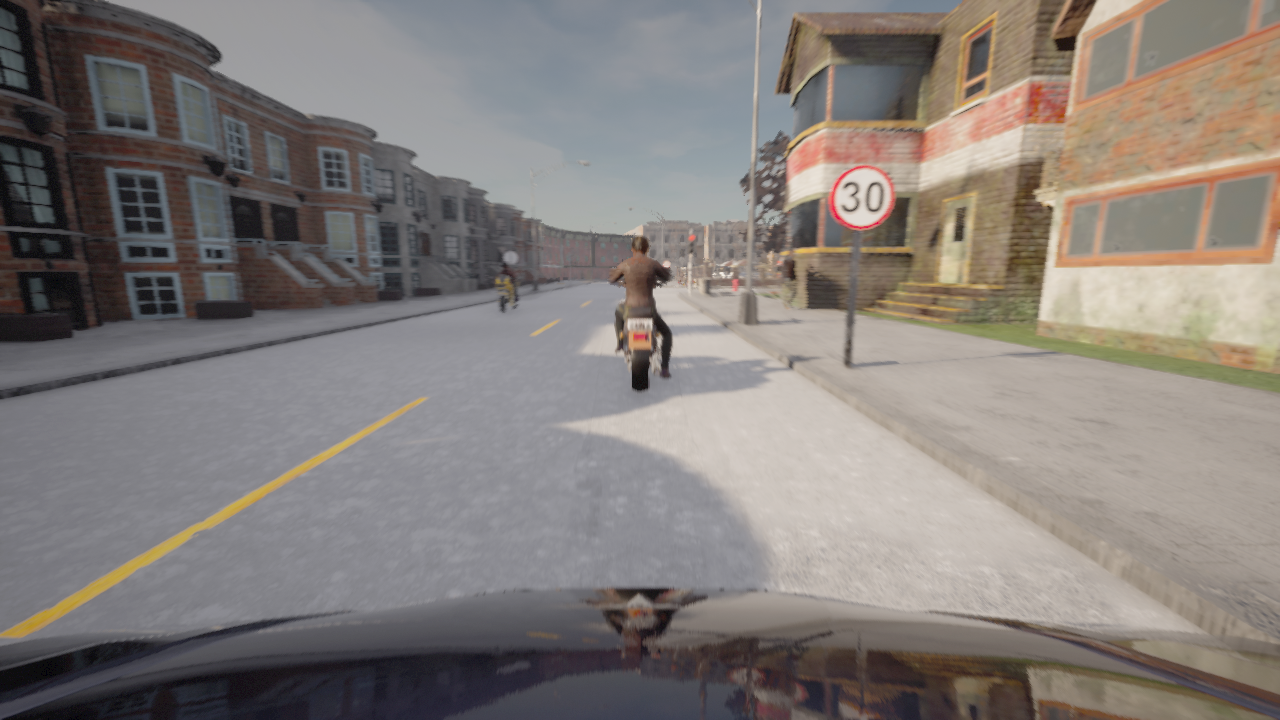cyclist: (0, 588, 1279, 719), (610, 268, 671, 392), (489, 275, 520, 313), (621, 276, 658, 303), (675, 273, 697, 288)
pedestrian: (781, 248, 798, 310)
